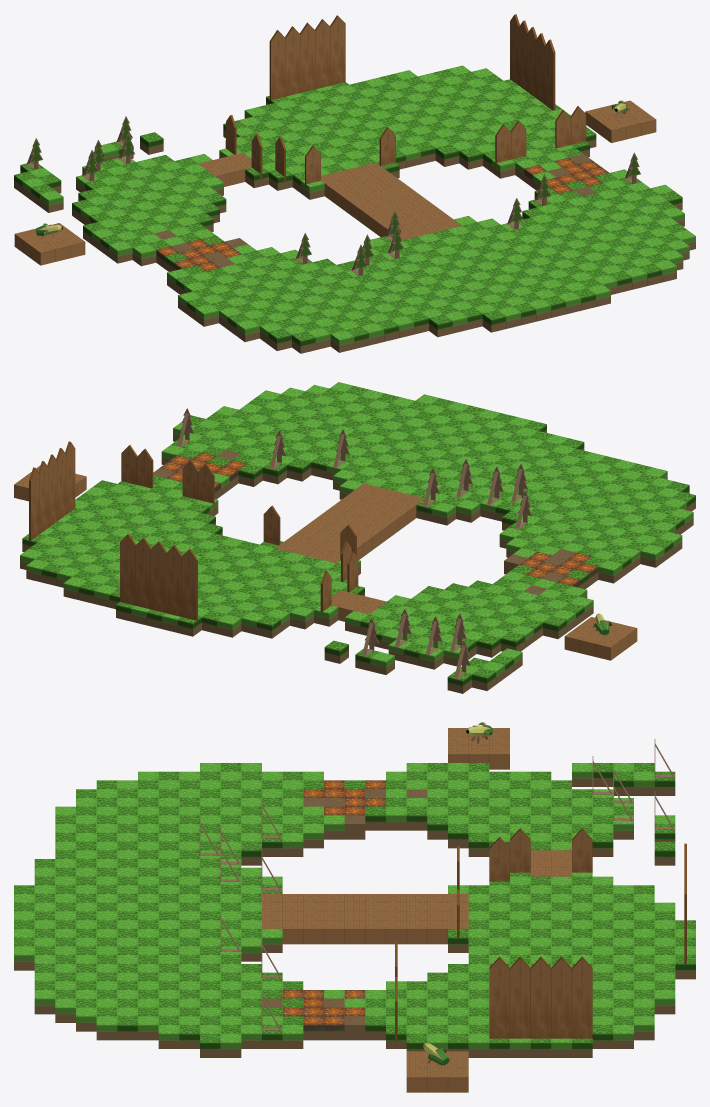
File: Level 5.fbx
3 views of the same model, one above another, from view 1: azimuth 30°, elevation 25°; view 2: azimuth 150°, elevation 25°; view 3: azimuth 270°, elevation 25° (orthographic). The views are drawn at different scales.
Visible parts, largest first — view 1: Fences.010, Fences, Fences.013, Fences.012, Fences.011, Fences.015, Fences.018, Fences.014, Fences.016, Fences.017, Fences.006, Fences.005 (+4 smaller); view 2: Fences.010, Fences, Fences.013, Fences.012, Fences.011, Fences.014, Fences.017, Fences.015, Fences.016, Fences.018, Fences.005, Fences.009 (+3 smaller); view 3: Fences.017, Fences.014, Fences.015, Fences.016, Fences.018, Fences.003, Fences.001, Fences.002.
Part boxes in pixels (bbox=[...]): Fences.010: bbox=[269, 30, 285, 100]; Fences: bbox=[330, 15, 345, 85]; Fences.013: bbox=[315, 19, 330, 88]; Fences.012: bbox=[300, 22, 315, 92]; Fences.011: bbox=[285, 26, 300, 96]; Fences.015: bbox=[544, 39, 555, 110]; Fences.018: bbox=[518, 20, 528, 91]; Fences.014: bbox=[510, 14, 519, 84]; Fences.016: bbox=[536, 33, 545, 103]; Fences.017: bbox=[527, 27, 537, 97]; Fences.006: bbox=[495, 124, 511, 168]; Fences.005: bbox=[379, 127, 395, 165]; Fences.010: bbox=[181, 548, 197, 620]; Fences: bbox=[120, 533, 136, 605]; Fences.013: bbox=[135, 537, 151, 609]; Fences.012: bbox=[150, 541, 166, 612]; Fences.011: bbox=[166, 545, 181, 616]; Fences.014: bbox=[29, 467, 39, 540]; Fences.017: bbox=[47, 454, 57, 527]; Fences.015: bbox=[65, 441, 75, 514]; Fences.016: bbox=[56, 448, 66, 520]; Fences.018: bbox=[38, 461, 48, 533]; Fences.005: bbox=[263, 505, 280, 545]; Fences.009: bbox=[136, 448, 153, 488]; Fences.017: bbox=[530, 957, 551, 1038]; Fences.014: bbox=[572, 956, 592, 1038]; Fences.015: bbox=[489, 956, 509, 1038]; Fences.016: bbox=[510, 956, 530, 1038]; Fences.018: bbox=[551, 956, 571, 1038]; Fences.003: bbox=[489, 837, 509, 881]; Fences.001: bbox=[572, 828, 592, 872]; Fences.002: bbox=[510, 828, 530, 872].
Size of the model in its own units: 8000 by 1030 by 6600.
